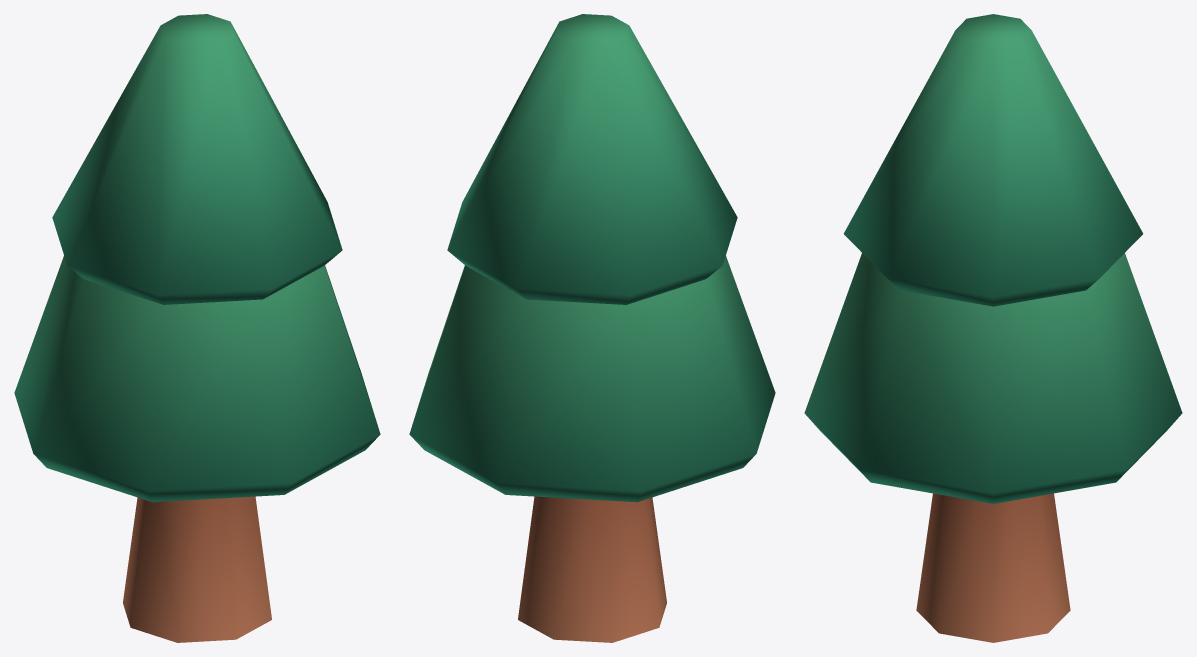
The model's file is tree.glb.
3 renders of one model, left to right at view 1: azimuth 30°, elevation 25°; view 2: azimuth 150°, elevation 25°; view 3: azimuth 270°, elevation 25°, orthographic.
Parts seen in each view (by area): view 1: tree; view 2: tree; view 3: tree.
Boxes of the visible parts, x1=… form: tree: x1=14, y1=14, x2=380, y2=642; tree: x1=409, y1=14, x2=775, y2=642; tree: x1=804, y1=14, x2=1182, y2=642.
Bounding box in the file's own units: 0.4906 × 0.8307 × 0.4906.
